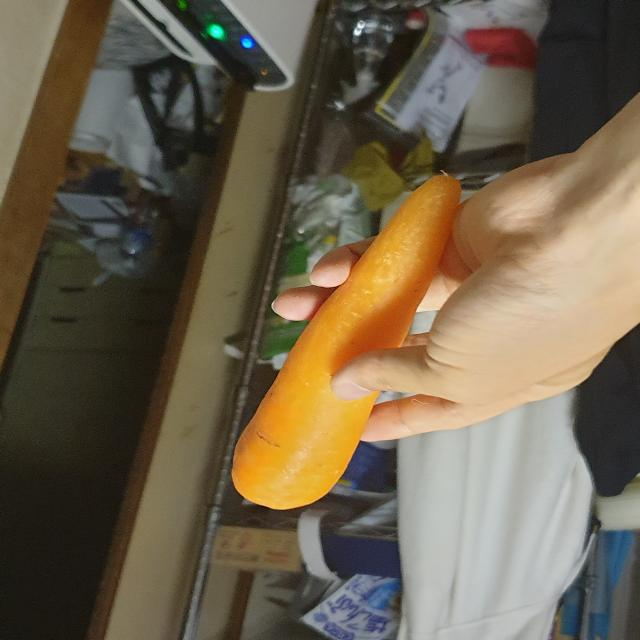carrot: (217, 158, 473, 518)
